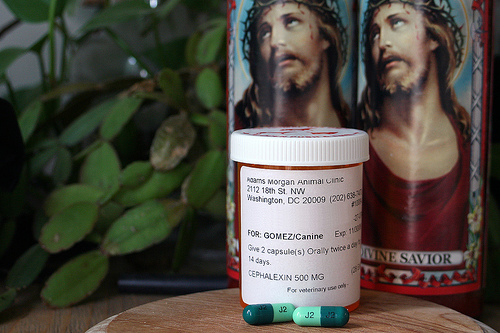pill bottle: (223, 119, 375, 327)
